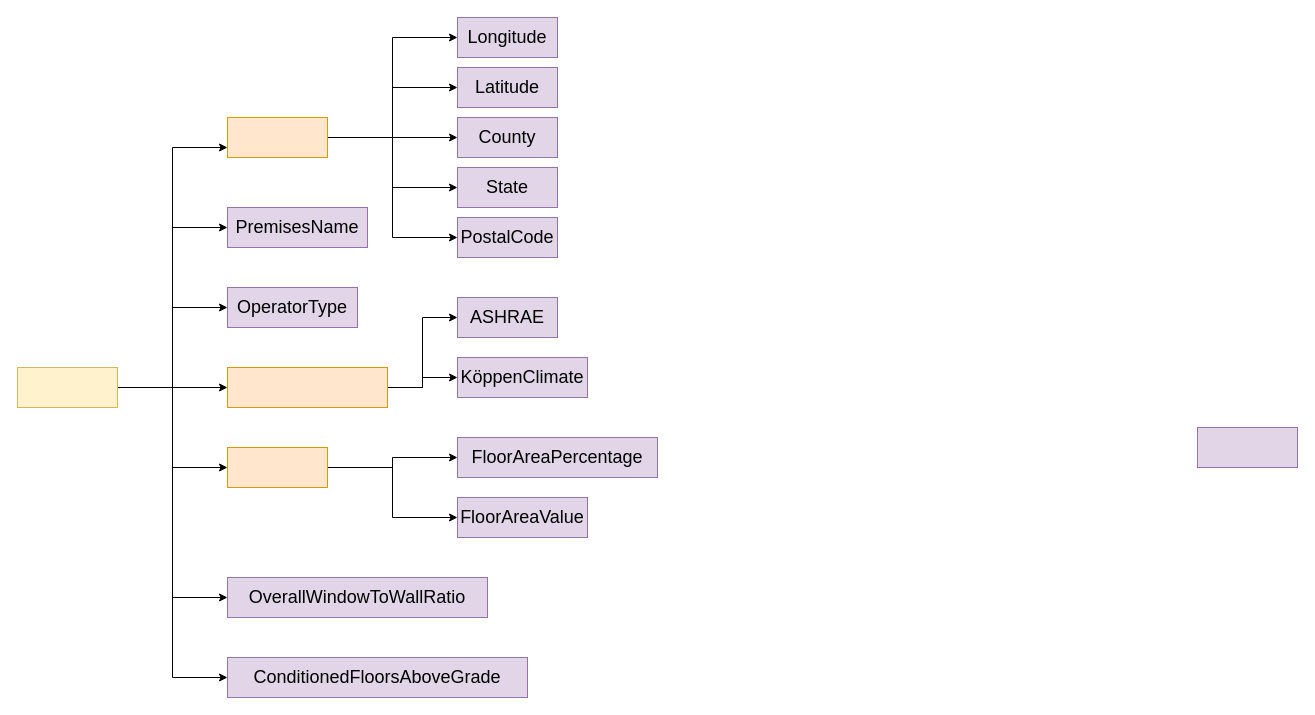
This 1315x715 diagram has some shape labels left out. Here are the shapes that lost their labels. From the top down, the centre of each, then its label:
At point 277,137: "Address".
At point 67,387: "Building".
At point 307,387: "ClimateZoneType".
At point 277,467: "FloorArea".
At point 1247,447: "City".
